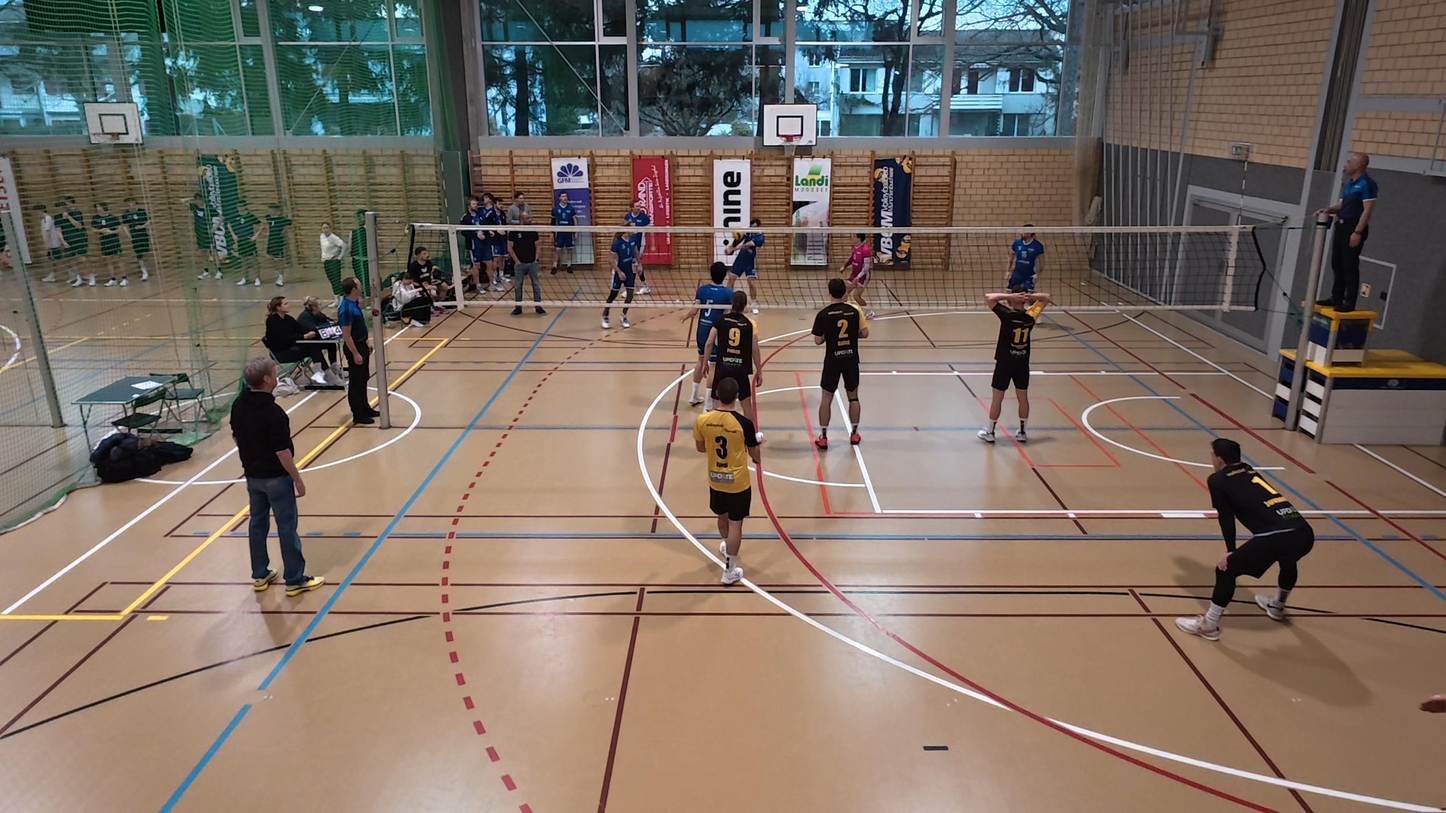Player: (1177, 439, 1315, 640), (694, 372, 758, 584), (980, 291, 1050, 444), (811, 277, 869, 449), (701, 291, 764, 446), (686, 263, 732, 409), (600, 225, 640, 330), (623, 197, 654, 295), (843, 232, 878, 314), (1007, 223, 1044, 294)
Receive: (728, 212, 764, 313)
ball: (725, 226, 742, 244)
